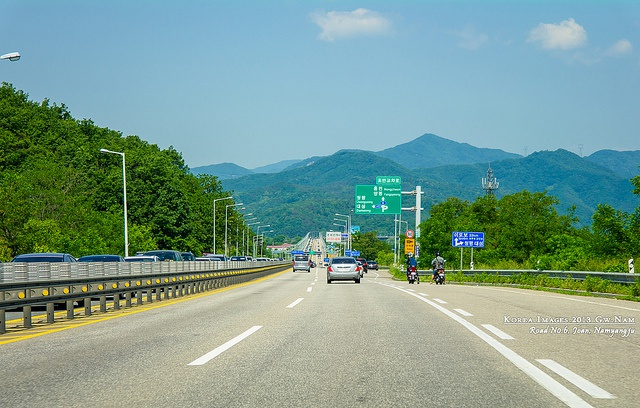non-vehicle: (432, 259, 446, 284), (406, 262, 419, 284)
